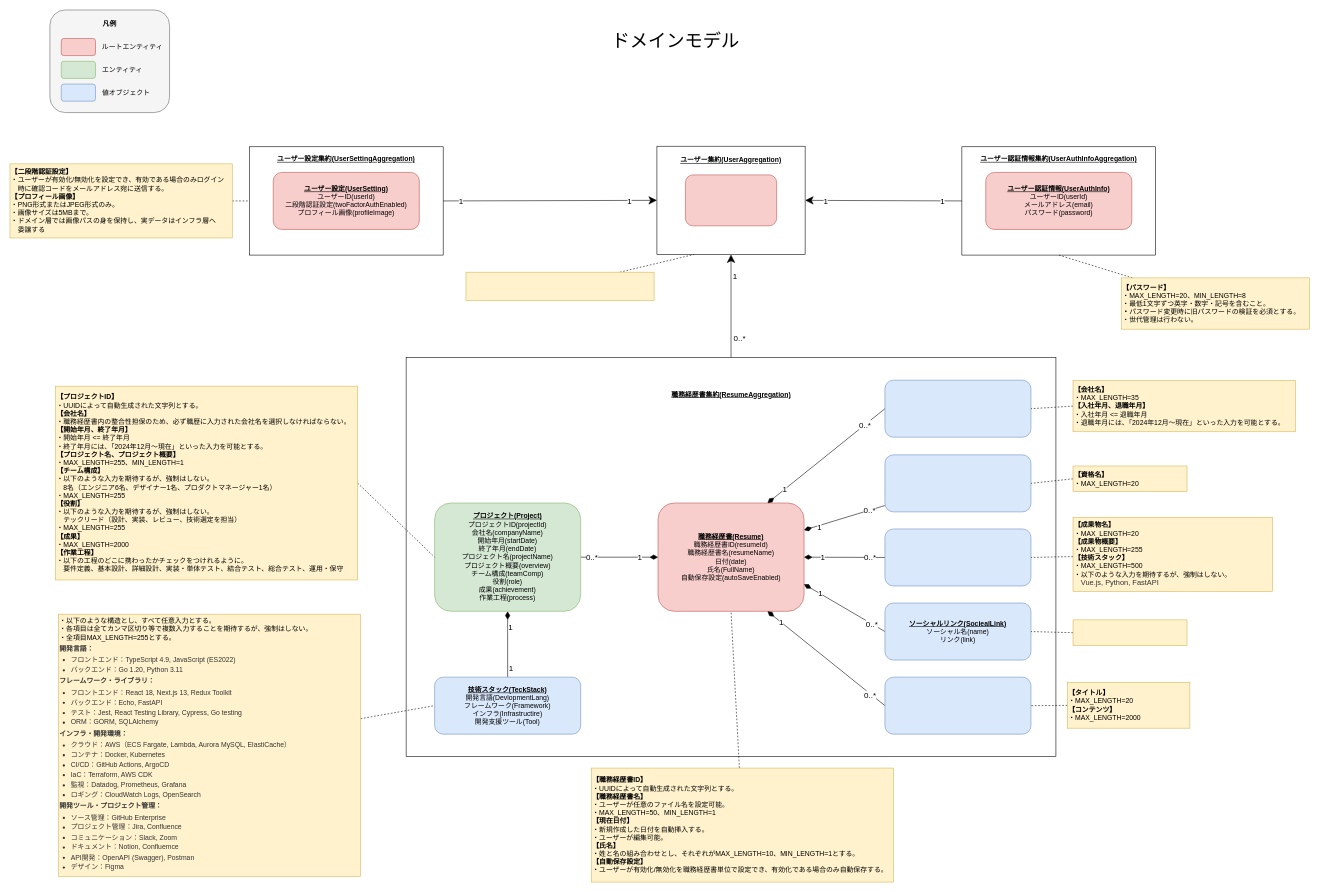
Image size: 1320x892. Some labels were removed from this diagram. Here are the shapes that lost their labels. From the top down, the centre of each, then its label:
At point 731,200: "ユーザー(User) ユーザーID(userId) メールアドレス(email)".
At point 559,286: "【ユーザーID】 ・ UUIDによって自動生成された文字列とする。".
At point 957,408: "職歴( WorkExperinence ) 会社名(companyName) 入社年月(startDate) 退職年月(endDate)".
At point 957,483: "資格( Qualification ) 資格名(name) 取得年月(date)".
At point 957,557: "成果物(Output) 成果物名(name) 成果物概要(overviwe) リンク(link) 技術スタック(techStack)".
At point 1129,632: "【ソーシャル名】 ・MAX_LENGTH=20".
At point 957,705: "自己PR(SelfPromotion) タイトル(title) コンテンツ(content)".
